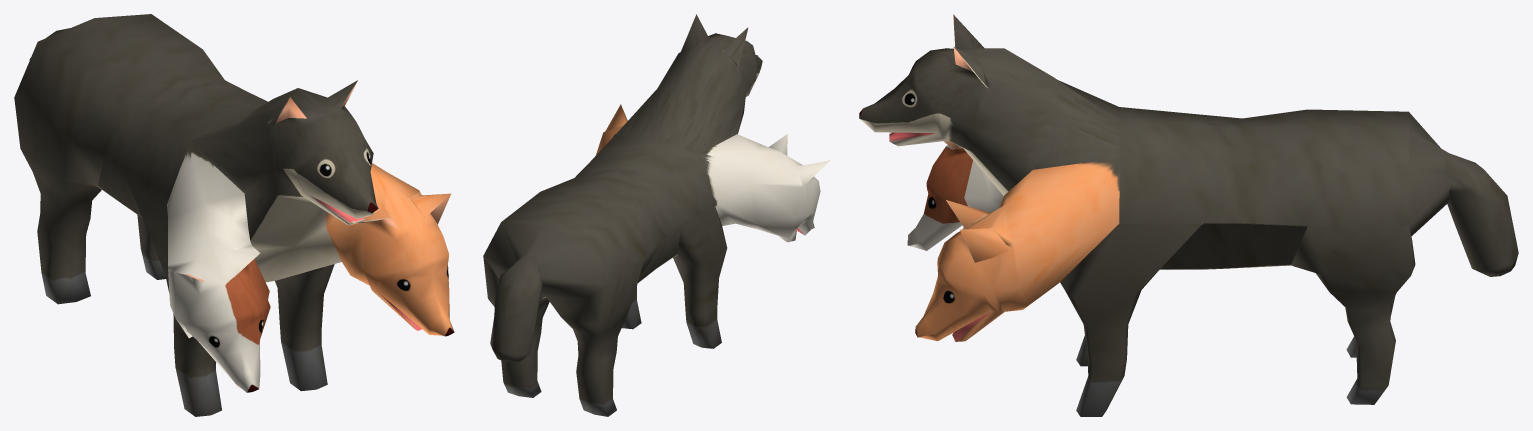
Rendered from cerberus.fbx.
3 renders of one model, left to right at view 1: azimuth 30°, elevation 25°; view 2: azimuth 150°, elevation 25°; view 3: azimuth 270°, elevation 25°, orthographic. The views are drawn at different scales.
Visible parts, largest first — view 1: pCone11; view 2: pCone11; view 3: pCone11.
Boxes of the visible parts, x1,y1,x2,y2 form: pCone11: [14, 14, 454, 416]; pCone11: [483, 14, 829, 416]; pCone11: [859, 14, 1518, 416].
Bounding box in the file's own units: 103 × 129 × 217.
